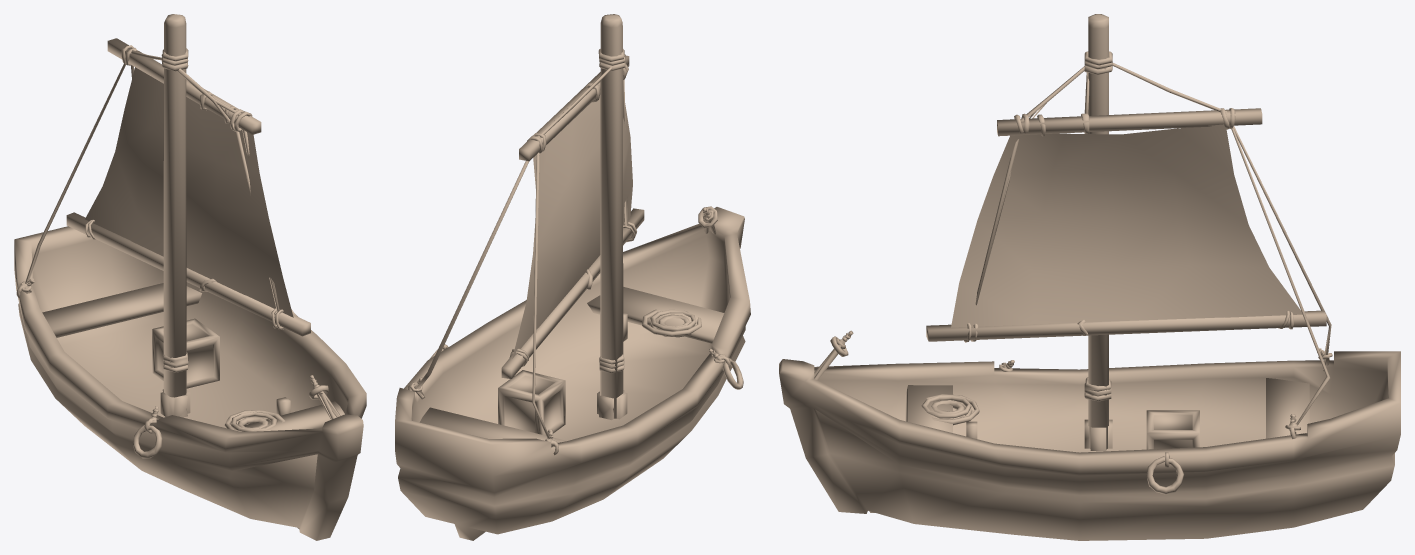
Rendered from wooden_sailboat_background.glb.
3 views of the same model, side by side, from view 1: azimuth 30°, elevation 25°; view 2: azimuth 150°, elevation 25°; view 3: azimuth 270°, elevation 25° (orthographic). The views are drawn at different scales.
Visible parts, largest first — view 1: tripo_node_1f1d49e4-0a6f-4409-a76d-063419c317bf; view 2: tripo_node_1f1d49e4-0a6f-4409-a76d-063419c317bf; view 3: tripo_node_1f1d49e4-0a6f-4409-a76d-063419c317bf.
Boxes of the visible parts, x1,y1,x2,y2 form: tripo_node_1f1d49e4-0a6f-4409-a76d-063419c317bf: [14, 14, 366, 540]; tripo_node_1f1d49e4-0a6f-4409-a76d-063419c317bf: [395, 14, 750, 540]; tripo_node_1f1d49e4-0a6f-4409-a76d-063419c317bf: [779, 14, 1400, 540].
Bounding box in the file's own units: 0.4746 × 0.8457 × 0.998.
